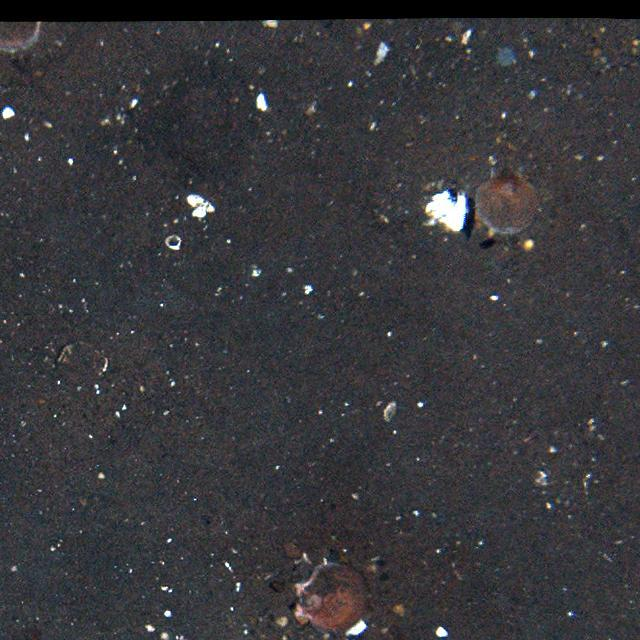scallop: (290, 562, 368, 634), (476, 162, 542, 236)
